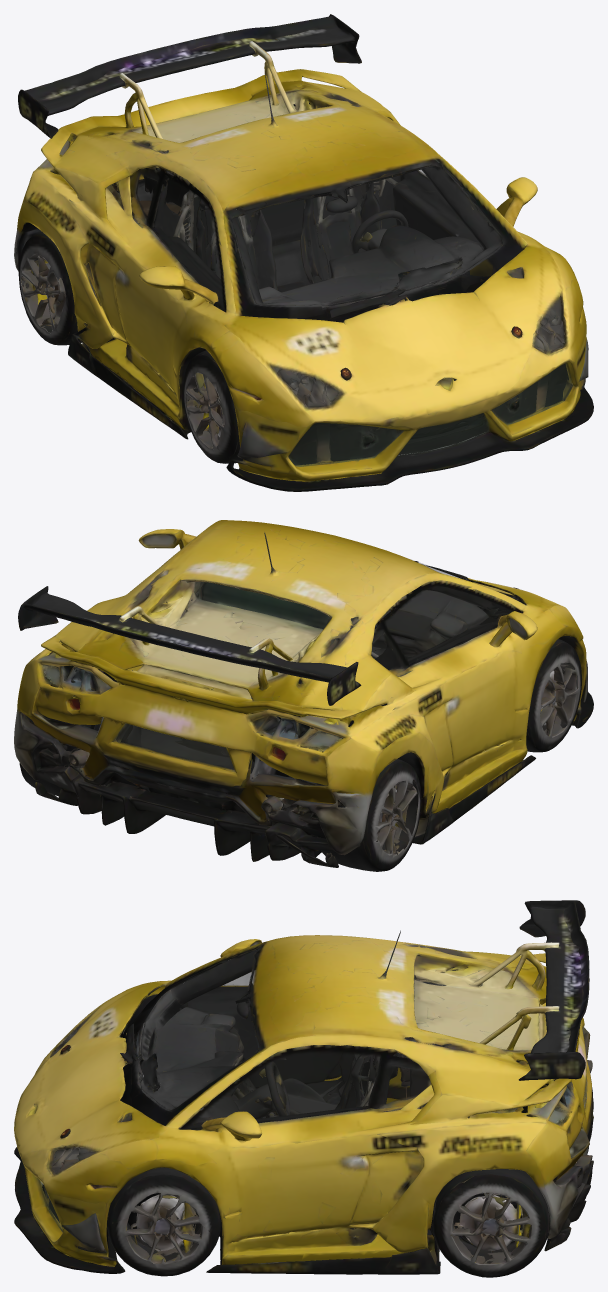
Rendered from lambo_high.glb.
3 renders of one model, top to bottom at view 1: azimuth 30°, elevation 25°; view 2: azimuth 150°, elevation 25°; view 3: azimuth 270°, elevation 25°, orthographic.
Visible parts, largest first — view 1: world; view 2: world; view 3: world.
Part boxes in pixels (x1,y1,x2,y2): world: (14, 14, 593, 491); world: (14, 520, 593, 871); world: (14, 900, 593, 1277).
Bounding box in the file's own units: 0.7872 × 0.5073 × 1.
Materials: 1 (1 with a texture image).
